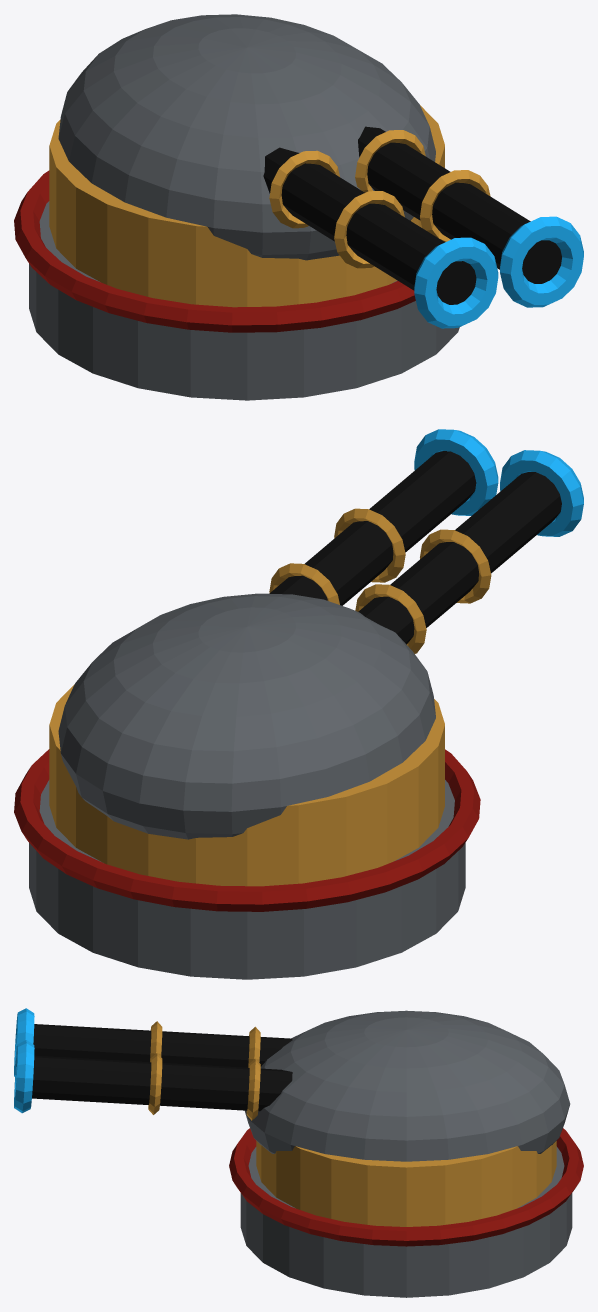
The model's file is turret.obj.
3 views of the same model, one above another, from view 1: azimuth 30°, elevation 25°; view 2: azimuth 150°, elevation 25°; view 3: azimuth 270°, elevation 25° (orthographic). The views are drawn at different scales.
Parts seen in each view (by area): view 1: turret; view 2: turret; view 3: turret.
Boxes of the visible parts, x1,y1,x2,y2 form: turret: (14, 14, 583, 400); turret: (14, 429, 583, 979); turret: (14, 1008, 583, 1297).
Bounding box in the file's own units: 24.91 × 15.52 × 40.
1 material, 1 textured.
